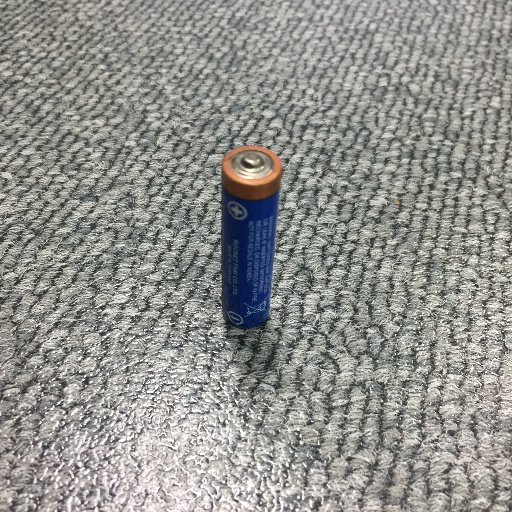Battery_0: (208, 136, 286, 338)
